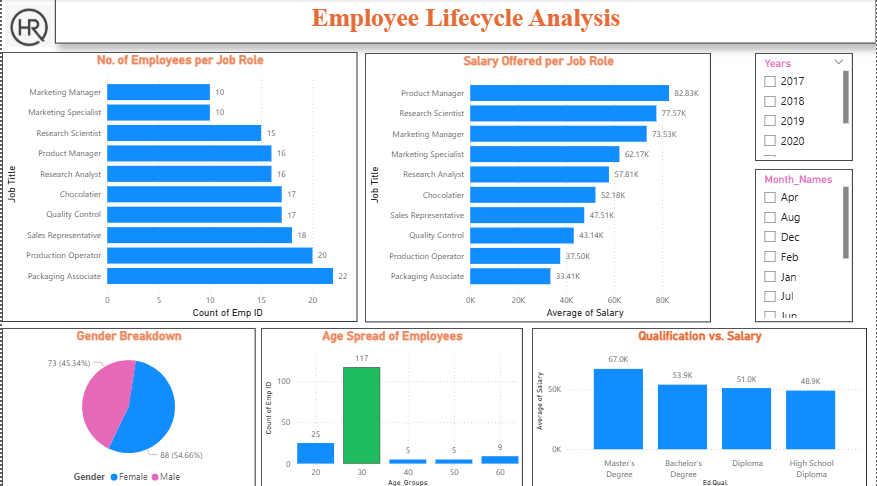

What the dashboard file says about the page in this screenshot:
{"tool":"powerbi","page":{"name":"HR Data Analysis-1","canvas":[1280,720],"ordinal":0},"visuals":[{"type":"image","box":[0,0,78.3,78.3],"z":0},{"type":"textbox","box":[78.3,0,1202,64.8],"z":1},{"type":"clusteredBarChart","title":"No. of Employees per Job Role","fields":{"Category":["HR_Data.Job Title"],"Y":["Count(HR_Data.Emp ID)"]},"box":[0,78.3,519.7,395],"z":2},{"type":"pieChart","title":"Gender Breakdown","fields":{"Category":["HR_Data.Gender"],"Y":["CountNonNull(HR_Data.Emp ID)"]},"box":[0,481.8,370.5,238.5],"z":3},{"type":"clusteredColumnChart","title":"Age Spread of Employees","fields":{"Category":["HR_Data.Age_Groups"],"Y":["CountNonNull(HR_Data.Emp ID)"]},"box":[379.1,481.8,382.7,238.5],"z":4},{"type":"clusteredBarChart","title":"Salary Offered per Job Role","fields":{"Category":["HR_Data.Job Title"],"Y":["Avg(HR_Data.Salary)"]},"box":[531.9,79.5,506.3,393.8],"z":5},{"type":"clusteredColumnChart","title":"Qualification vs. Salary","fields":{"Category":["HR_Data.Ed.Qual."],"Y":["Avg(HR_Data.Salary)"]},"box":[775.3,481.8,490.4,238.5],"z":6},{"type":"slicer","fields":{"Values":["HR_Data.Years"]},"box":[1101.8,79.5,143.1,157.7],"z":7},{"type":"slicer","fields":{"Values":["HR_Data.Month_Names"]},"box":[1101.8,249.5,143.1,223.8],"z":8}]}

Visuals, with their boxes in screenshot pixels (x1, y1, x2, y2), scaled from the page's 1280x720 canvas onto the 877x486 screenshot:
image: bbox=(0, 0, 54, 53)
textbox: bbox=(54, 0, 876, 44)
"No. of Employees per Job Role" clusteredBarChart: bbox=(0, 53, 356, 319)
"Gender Breakdown" pieChart: bbox=(0, 325, 254, 485)
"Age Spread of Employees" clusteredColumnChart: bbox=(260, 325, 522, 485)
"Salary Offered per Job Role" clusteredBarChart: bbox=(364, 54, 711, 319)
"Qualification vs. Salary" clusteredColumnChart: bbox=(531, 325, 867, 485)
slicer - HR_Data.Years: bbox=(755, 54, 853, 160)
slicer - HR_Data.Month_Names: bbox=(755, 168, 853, 319)
